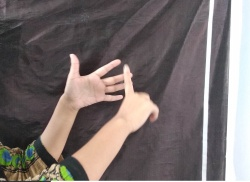u: (60, 50, 153, 118)
